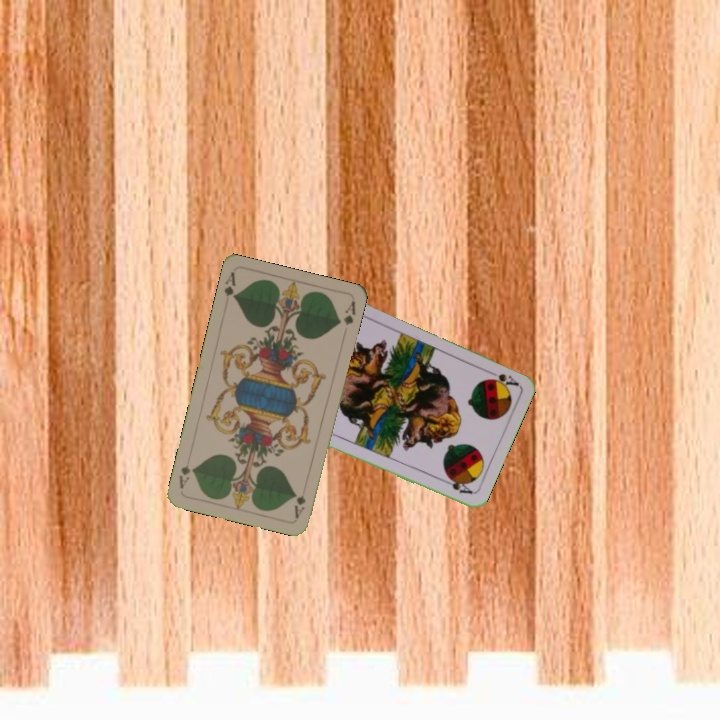GA: (220, 268, 239, 302), (290, 491, 308, 521)
SA: (482, 366, 521, 390)
